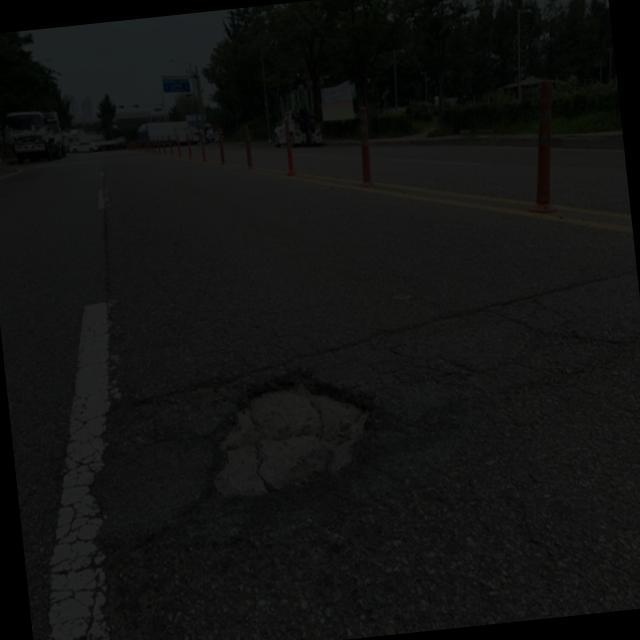pothole: (187, 348, 410, 509)
